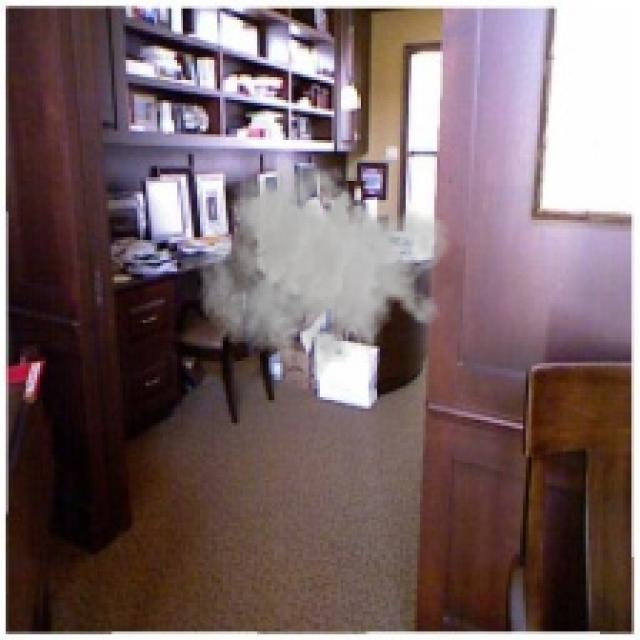Smoke: (197, 157, 452, 389)
